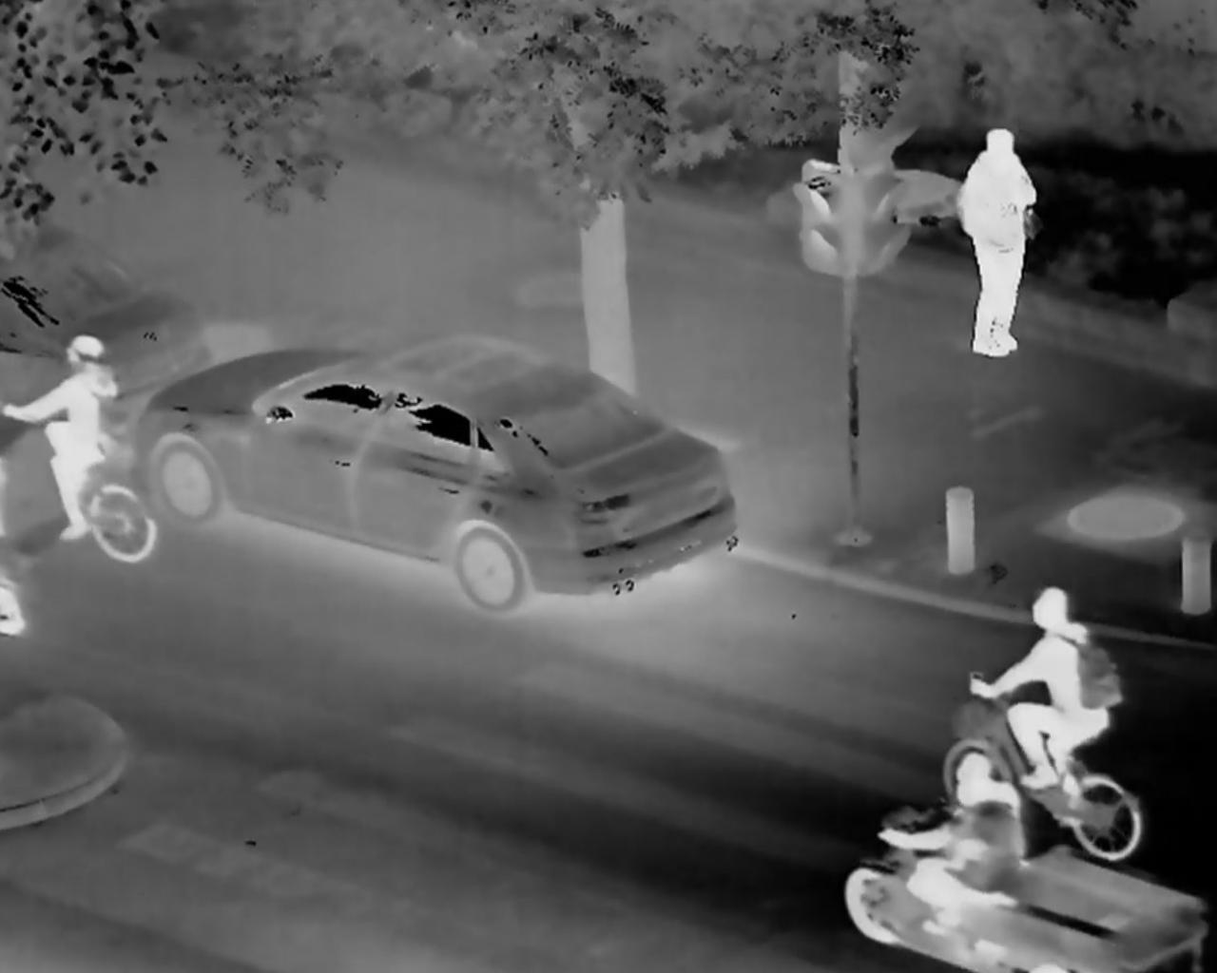person: (956, 582, 1122, 792), (878, 747, 1026, 941), (7, 329, 129, 552), (949, 121, 1034, 375)
